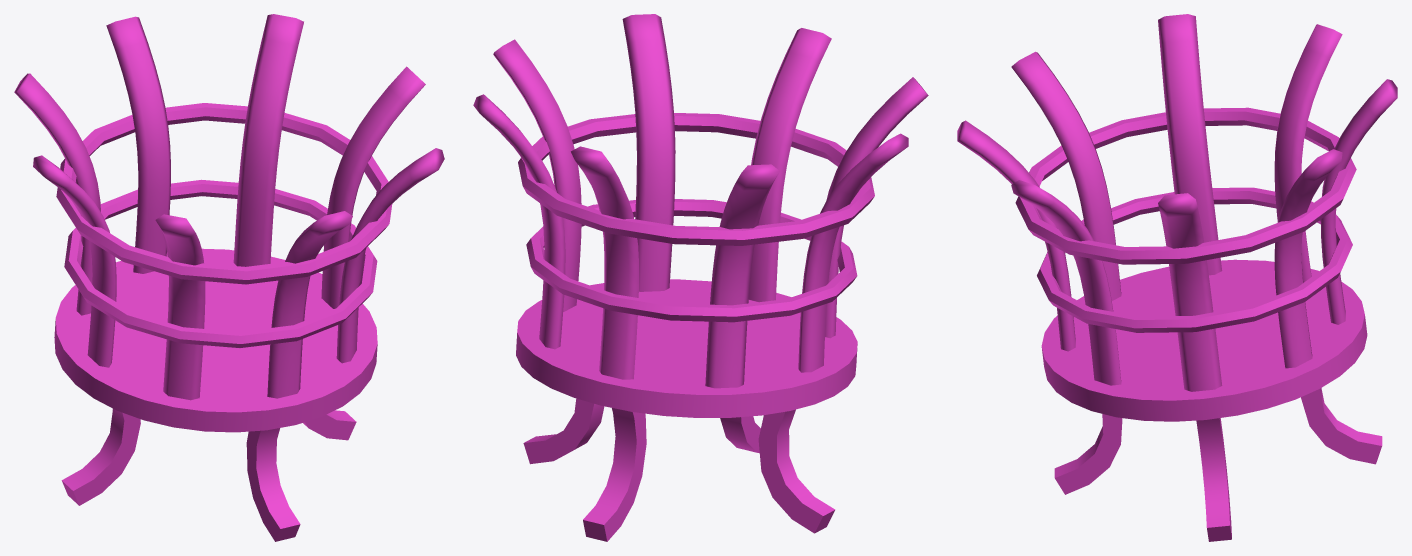
The model's file is chandelier.fbx.
3 views of the same model, side by side, from view 1: azimuth 30°, elevation 25°; view 2: azimuth 150°, elevation 25°; view 3: azimuth 270°, elevation 25° (orthographic). The views are drawn at different scales.
Parts seen in each view (by area): view 1: Cylinder.010, Torus, BezierCurve.007, Torus.011, BezierCurve.002, BezierCurve.005, BezierCurve.001, BezierCurve, BezierCurve.043, BezierCurve.004, BezierCurve.006, Cube.011 (+2 smaller); view 2: Cylinder.010, Torus, BezierCurve.006, Torus.011, BezierCurve, BezierCurve.004, BezierCurve.002, BezierCurve.001, BezierCurve.043, BezierCurve.007, Cube.013, Cube.010 (+3 smaller); view 3: Cylinder.010, Torus, Torus.011, BezierCurve.043, BezierCurve.005, BezierCurve.001, BezierCurve.004, BezierCurve.007, BezierCurve.006, BezierCurve.002, BezierCurve, Cube.012 (+2 smaller).
Boxes of the visible parts, x1,y1,x2,y2 form: Cylinder.010: [54, 248, 377, 432]; Torus: [56, 103, 392, 284]; BezierCurve.007: [233, 14, 303, 266]; Torus.011: [64, 179, 377, 347]; BezierCurve.002: [106, 16, 170, 273]; BezierCurve.005: [155, 214, 205, 400]; BezierCurve.001: [321, 66, 425, 308]; BezierCurve: [267, 211, 352, 398]; BezierCurve.043: [33, 155, 116, 367]; BezierCurve.004: [14, 73, 100, 315]; BezierCurve.006: [336, 148, 444, 363]; Cube.011: [246, 428, 300, 541]; Cylinder.010: [516, 279, 857, 417]; Torus: [518, 113, 874, 245]; BezierCurve.006: [622, 14, 675, 291]; Torus.011: [526, 199, 857, 322]; BezierCurve: [749, 28, 831, 302]; BezierCurve.004: [705, 164, 779, 388]; BezierCurve.002: [571, 146, 638, 379]; BezierCurve.001: [493, 39, 581, 311]; BezierCurve.043: [798, 133, 908, 372]; BezierCurve.007: [473, 94, 565, 349]; Cube.013: [583, 408, 646, 541]; Cube.010: [758, 409, 835, 533]; Cylinder.010: [1041, 259, 1367, 421]; Torus: [1015, 107, 1356, 264]; Torus.011: [1037, 187, 1352, 332]; BezierCurve.043: [1158, 14, 1222, 275]; BezierCurve.005: [1011, 51, 1121, 300]; BezierCurve.001: [1158, 193, 1222, 391]; BezierCurve.004: [1274, 24, 1342, 282]; BezierCurve.007: [1274, 149, 1342, 368]; BezierCurve.006: [1011, 180, 1121, 385]; BezierCurve.002: [1321, 79, 1397, 324]; BezierCurve: [957, 120, 1075, 351]; Cube.012: [1196, 418, 1231, 541].
Bounding box in the file's own units: 1.56 × 1.57 × 1.59.
